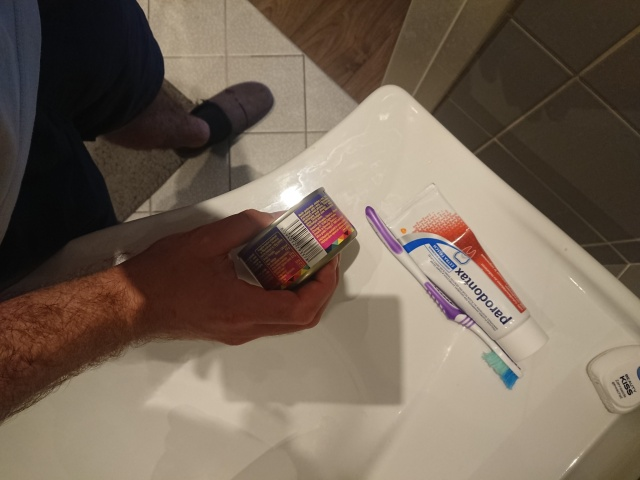Giana Tuna Salad Mexico 185g: (235, 184, 359, 301)
